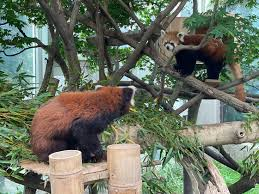redPanda: (21, 84, 144, 164)
